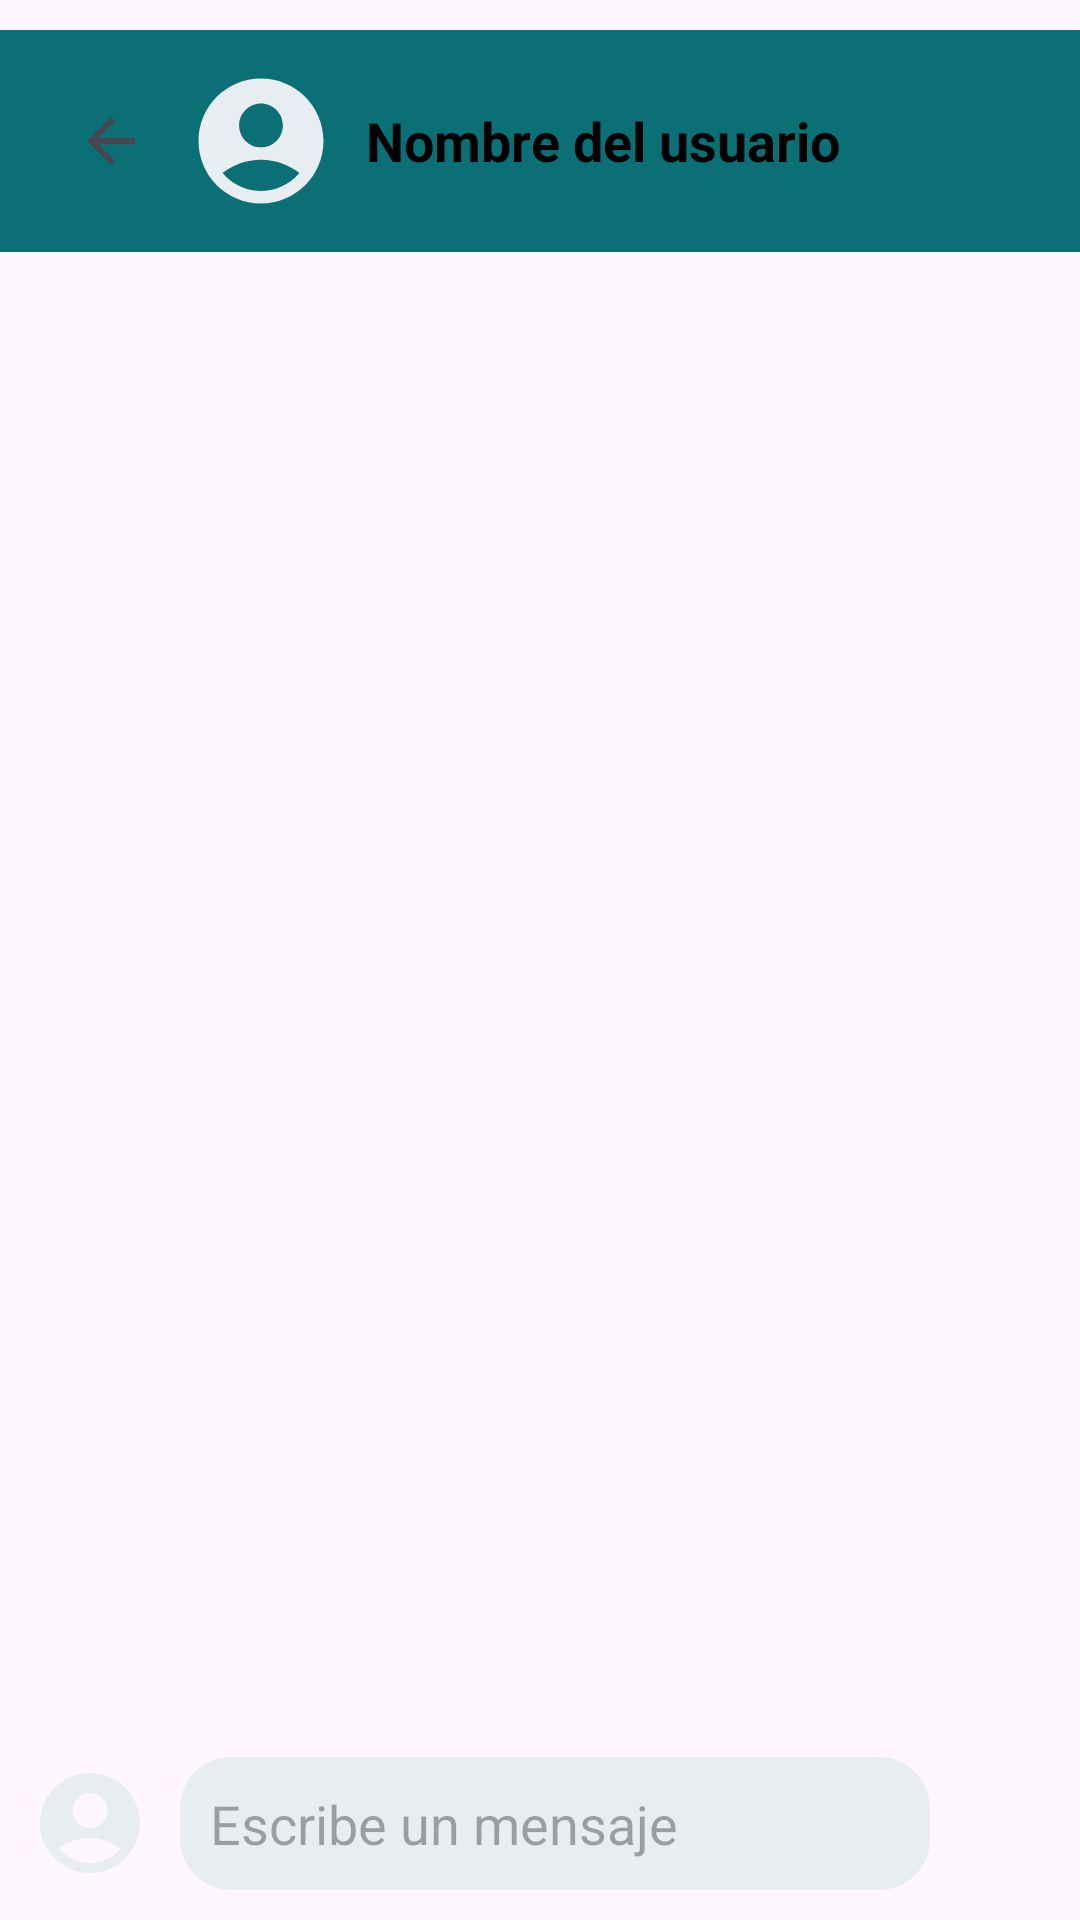

Screen size 1080*1920. Icon name, then its center in pixels as [x,y]:
Foto Usuario: [261,141]
Regresar: [111,141]
